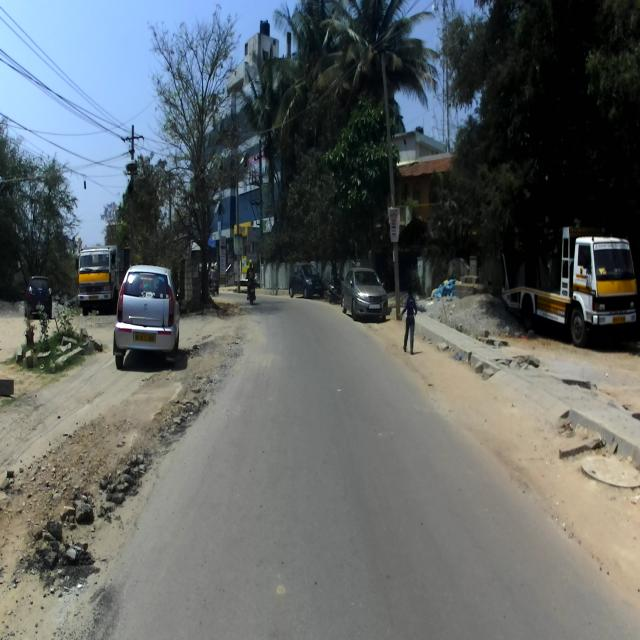car ahead at: (119, 254, 182, 370), (346, 253, 388, 324)
person ahead at: (396, 283, 422, 355)
tree ahead at: (172, 23, 232, 319)
